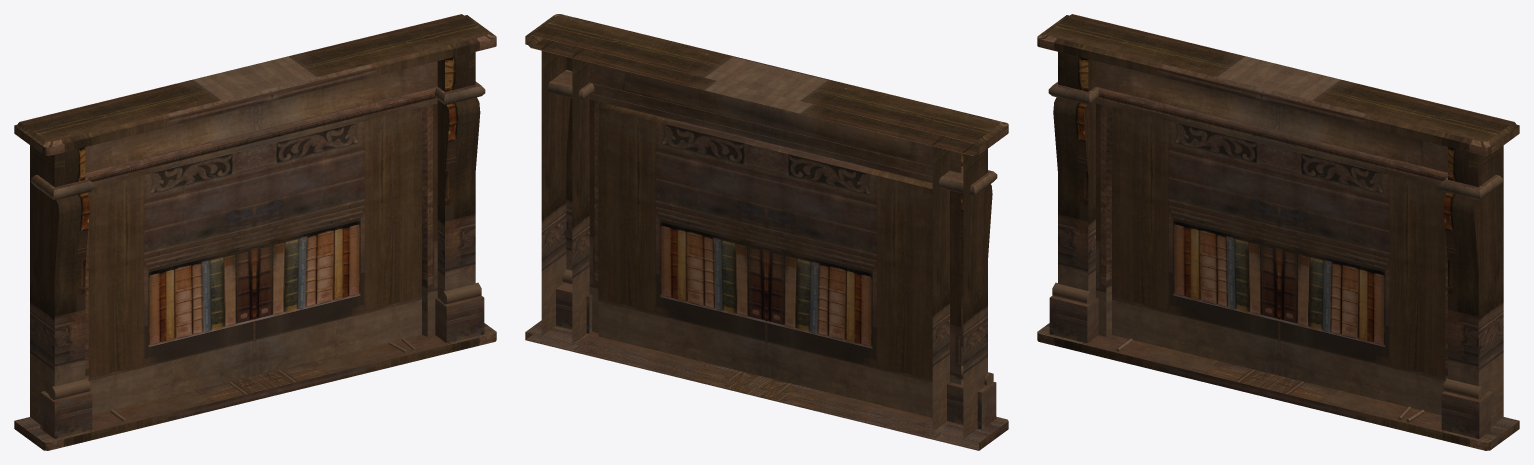
Rendered from BookDesk2.fbx.
3 renders of one model, left to right at view 1: azimuth 30°, elevation 25°; view 2: azimuth 150°, elevation 25°; view 3: azimuth 330°, elevation 25°, orthographic.
Parts seen in each view (by area): view 1: LV_Compagna_Object_Blackboard_SM_NWCSTE; view 2: LV_Compagna_Object_Blackboard_SM_NWCSTE; view 3: LV_Compagna_Object_Blackboard_SM_NWCSTE.
Part boxes in pixels (<box>): LV_Compagna_Object_Blackboard_SM_NWCSTE: <box>14,14,496,450</box>; LV_Compagna_Object_Blackboard_SM_NWCSTE: <box>525,14,1008,450</box>; LV_Compagna_Object_Blackboard_SM_NWCSTE: <box>1037,14,1519,450</box>.
Bounding box in the file's own units: 0.956 × 0.6164 × 0.1157.
1 material, 1 textured.
